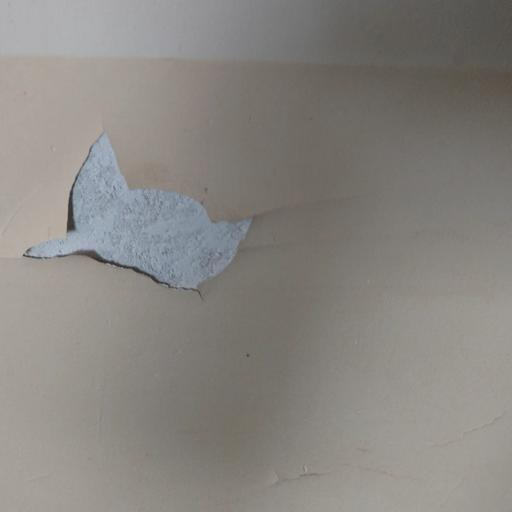peeling: (9, 106, 286, 328)
